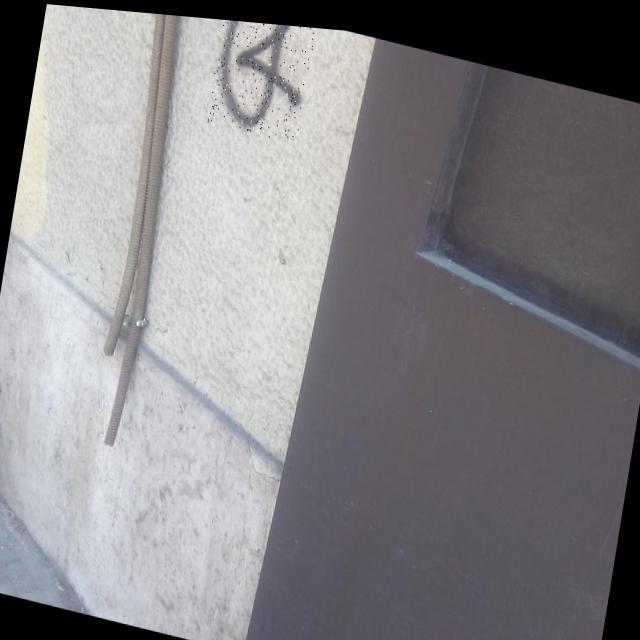-: (206, 15, 316, 140)
